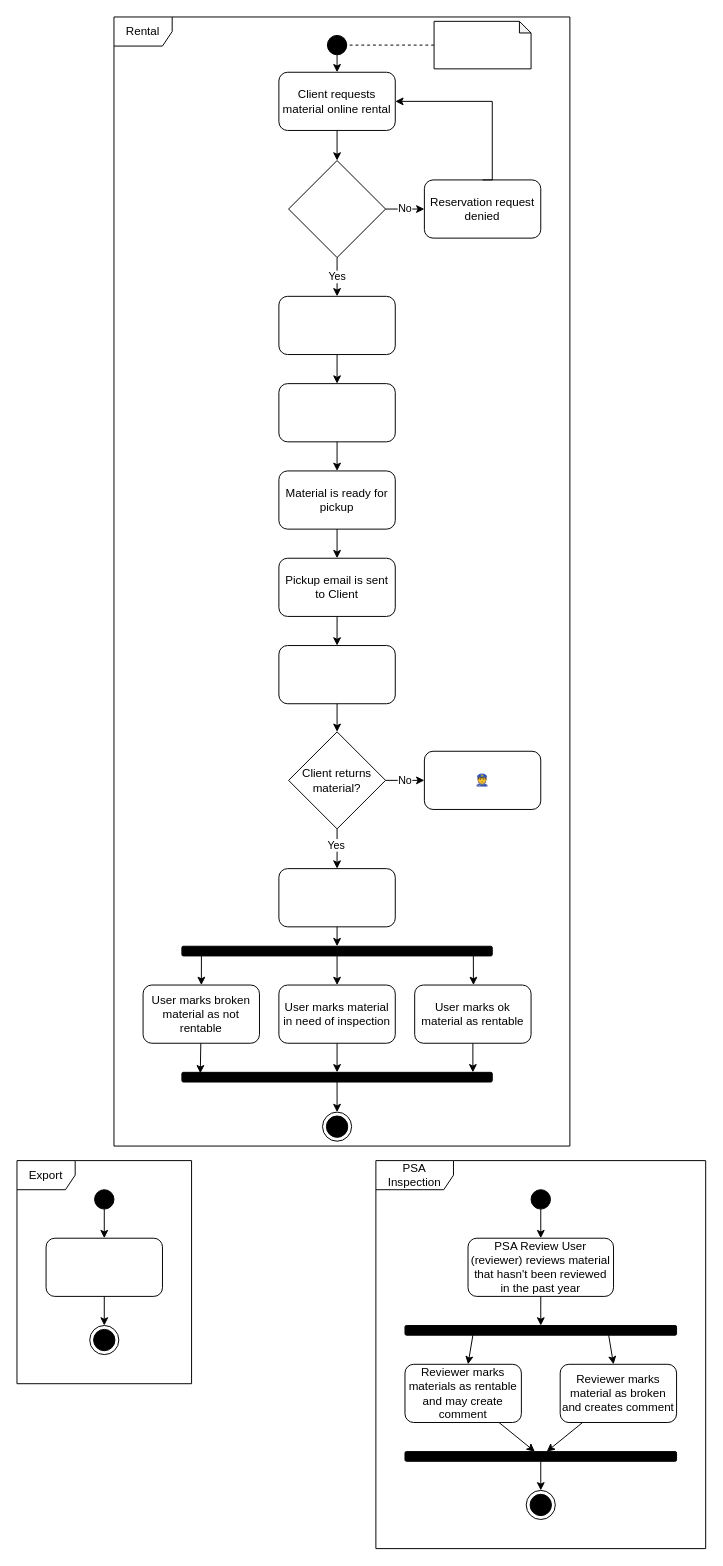
Image size: 723x1566. Some labels were removed from this diagram. Here are the shapes that lost their labels. From the top down, the centre of each, then its label:
point (482, 44): Customer User (Client) registered
point (337, 209): Requested material available?
point (336, 325): User (Lender) confirms reservation request
point (336, 412): Invoice email is sent to Client
point (336, 674): Client pays and picks up material
point (336, 897): User reviews material
point (103, 1266): User exports completed reservations
